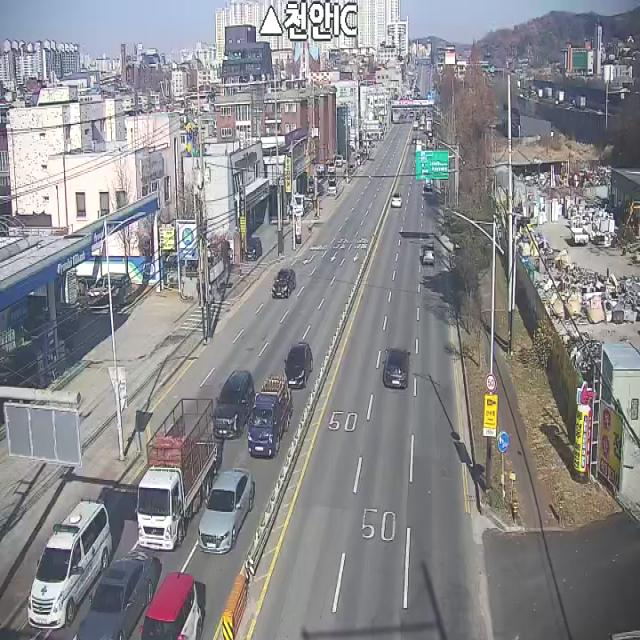Car: (27, 502, 114, 629), (73, 552, 161, 640), (199, 468, 254, 554), (138, 572, 203, 640), (212, 369, 256, 437), (284, 342, 313, 390), (90, 274, 132, 306), (383, 349, 411, 390), (272, 267, 296, 298), (245, 237, 262, 260), (422, 242, 436, 266), (326, 179, 339, 196), (391, 191, 403, 208), (314, 160, 327, 173), (335, 154, 344, 167), (328, 162, 336, 174)
Truck: (137, 400, 220, 550), (248, 375, 293, 457), (571, 212, 589, 246)
